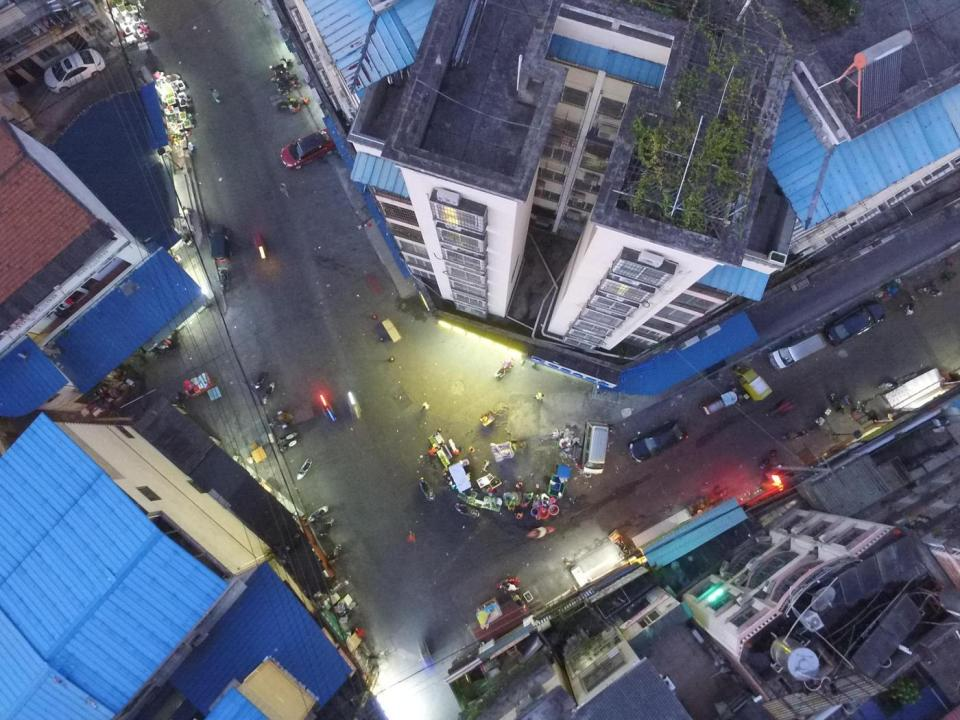car: (42, 47, 106, 93), (280, 127, 338, 170), (628, 429, 642, 466)
van: (579, 422, 609, 475)
